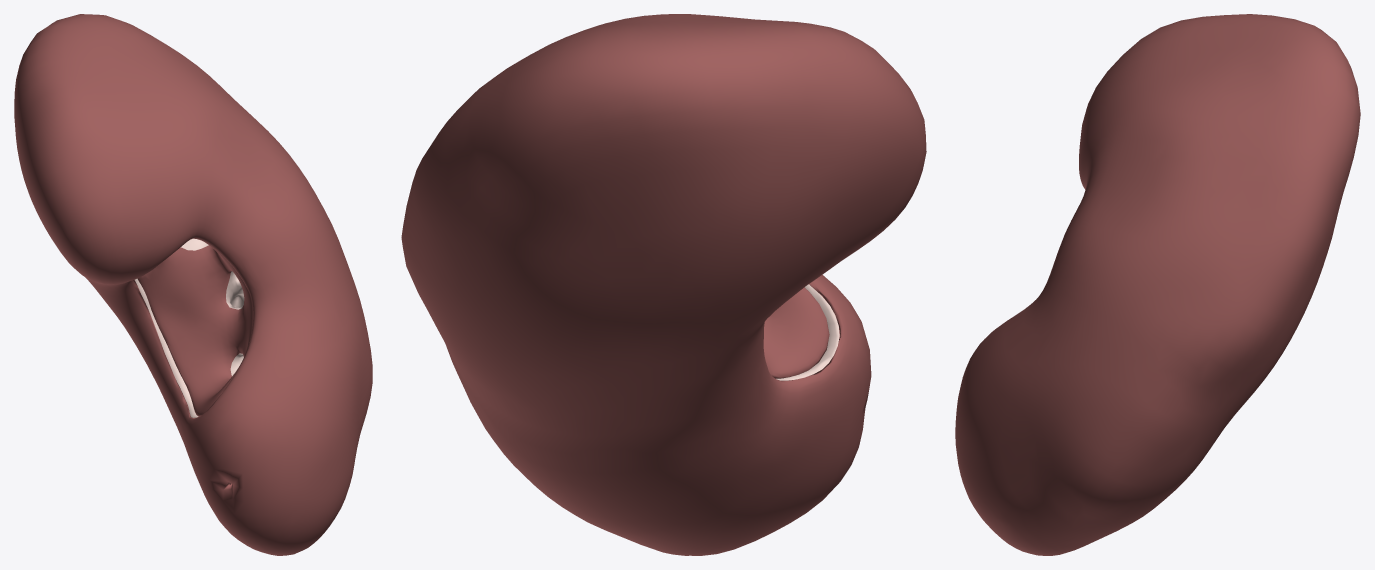
The model's file is vh_m_kidney_l-80.glb.
3 views of the same model, side by side, from view 1: azimuth 30°, elevation 25°; view 2: azimuth 150°, elevation 25°; view 3: azimuth 270°, elevation 25° (orthographic). The views are drawn at different scales.
Parts seen in each view (by area): view 1: VH_M_kidney_capsule_L, VH_M_hilum_of_kidney_L, VH_M_renal_column_L, VH_M_outer_cortex_of_kidney_L; view 2: VH_M_kidney_capsule_L, VH_M_hilum_of_kidney_L, VH_M_outer_cortex_of_kidney_L; view 3: VH_M_kidney_capsule_L.
Part boxes in pixels (left/top/right/bottom): VH_M_kidney_capsule_L: left=14, top=14, right=372, bottom=555; VH_M_hilum_of_kidney_L: left=137, top=238, right=253, bottom=416; VH_M_renal_column_L: left=181, top=238, right=244, bottom=376; VH_M_outer_cortex_of_kidney_L: left=135, top=278, right=198, bottom=417; VH_M_kidney_capsule_L: left=401, top=14, right=926, bottom=555; VH_M_hilum_of_kidney_L: left=763, top=287, right=829, bottom=378; VH_M_outer_cortex_of_kidney_L: left=776, top=284, right=839, bottom=380; VH_M_kidney_capsule_L: left=955, top=14, right=1360, bottom=555.
Size of the model in its own units: 0.0757 by 0.1065 by 0.0824.
